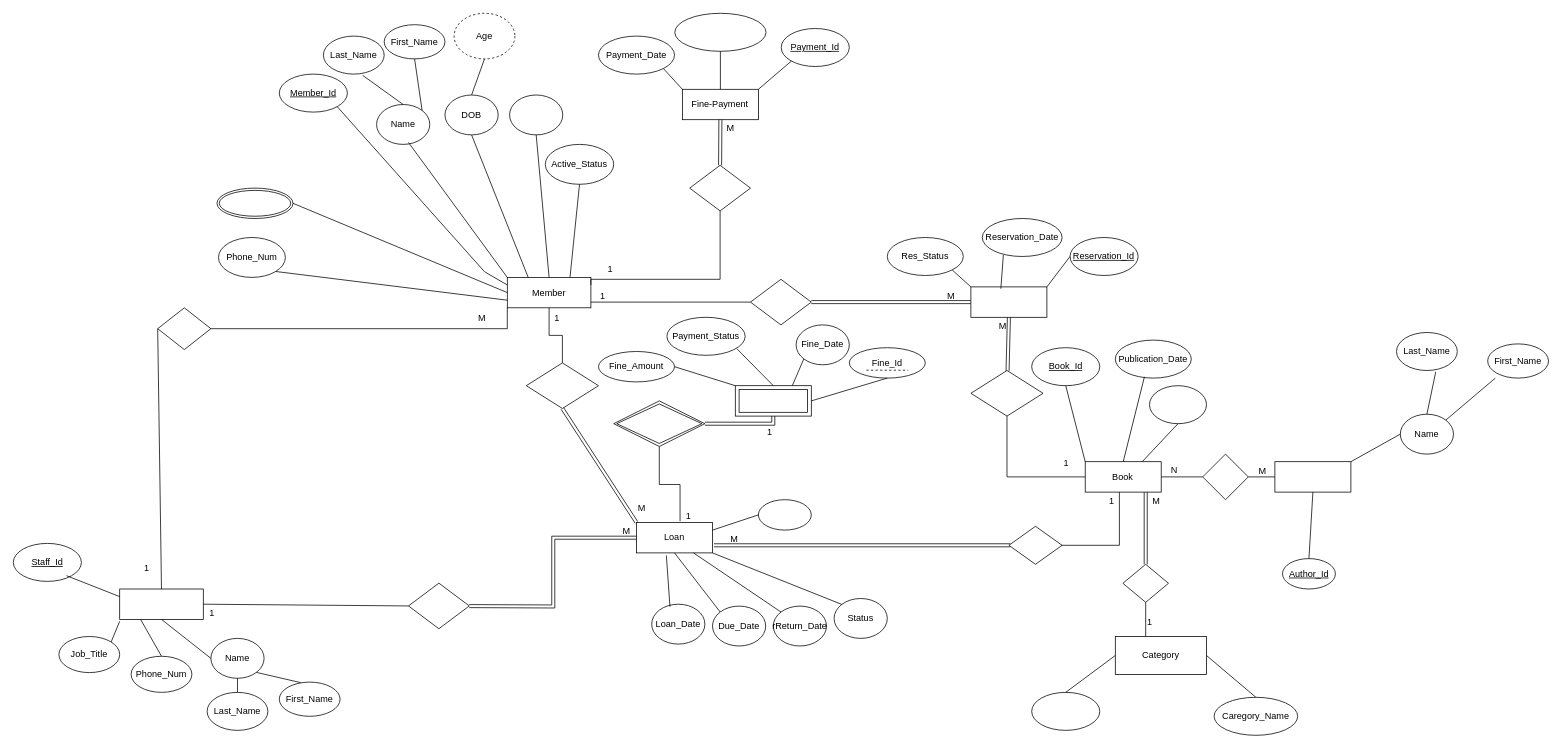
This 1562x750 diagram has some shape labels left out. Each missing label, with the centre of its shape:
"assist" goes at point (184, 328).
"Author" goes at point (1312, 476).
"belongs" goes at point (1145, 583).
"Category_Id" goes at point (1065, 711).
"Email" goes at point (254, 202).
"Fine" goes at point (773, 400).
"have" goes at point (1035, 545).
"imposed_on" goes at point (659, 423).
"Loan_Id" goes at point (784, 514).
"makes" goes at point (780, 302).
"managed" goes at point (438, 605).
"pay" goes at point (719, 188).
"Payment_Amount" goes at point (720, 32).
"Reg_date" goes at point (536, 114).
"Reservation" goes at point (1008, 301).
"reserved_for" goes at point (1006, 393).
"Staff" goes at point (161, 603).
"take" goes at point (562, 385).
"Title" goes at point (1177, 404).
"write" goes at point (1225, 476).
